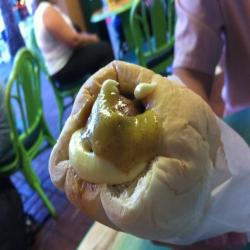burger: (45, 70, 178, 204)
